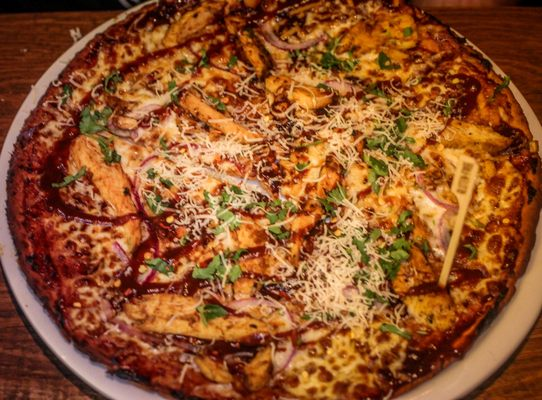sandwich: (3, 0, 541, 390)
